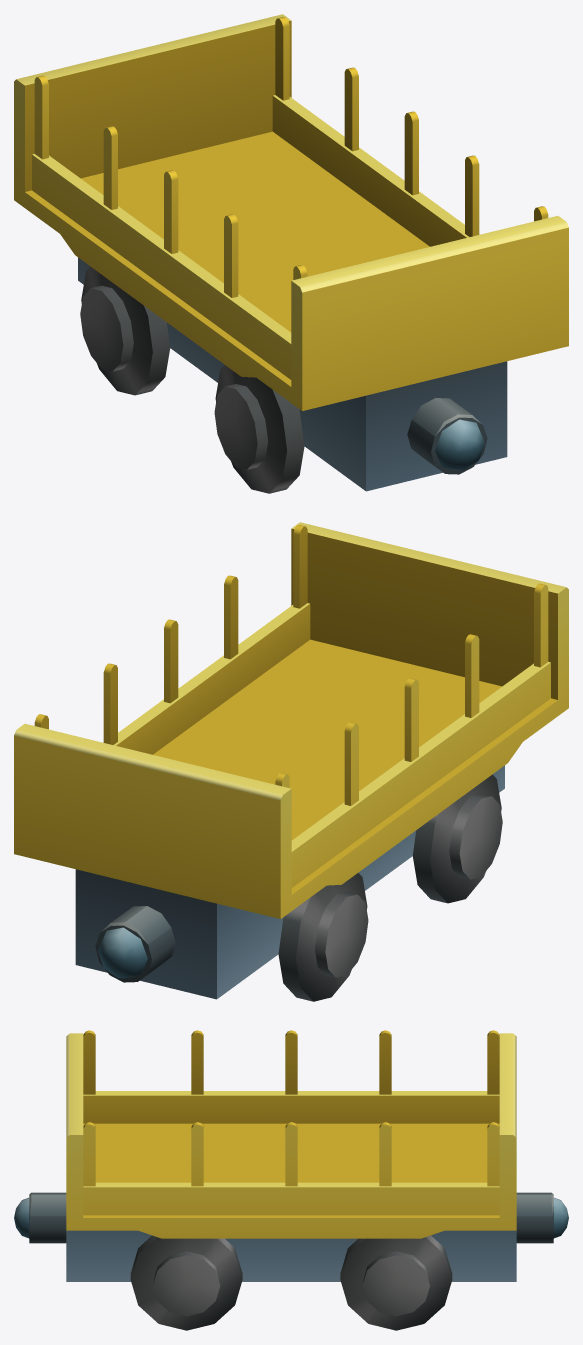
The model's file is Carriage_Dump.fbx.
The picture shows the model from 3 angles, top to bottom: view 1: azimuth 30°, elevation 25°; view 2: azimuth 150°, elevation 25°; view 3: azimuth 270°, elevation 25°; orthographic projection. The views are drawn at different scales.
Parts seen in each view (by area): view 1: Carriage_Dump; view 2: Carriage_Dump; view 3: Carriage_Dump.
Part boxes in pixels (box(x1,y1,x2,y2)): Carriage_Dump: box(14, 14, 568, 493); Carriage_Dump: box(14, 522, 568, 1001); Carriage_Dump: box(14, 1030, 568, 1330).
Bounding box in the file's own units: 300 × 292 × 692.
